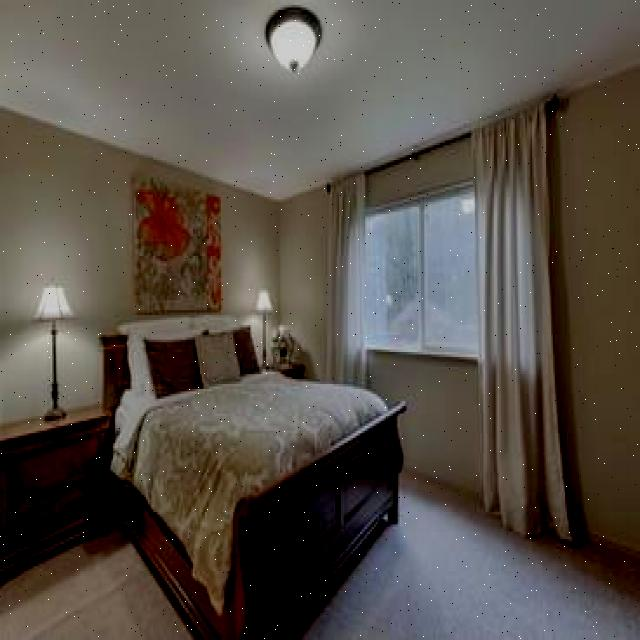bed: (106, 316, 403, 616)
